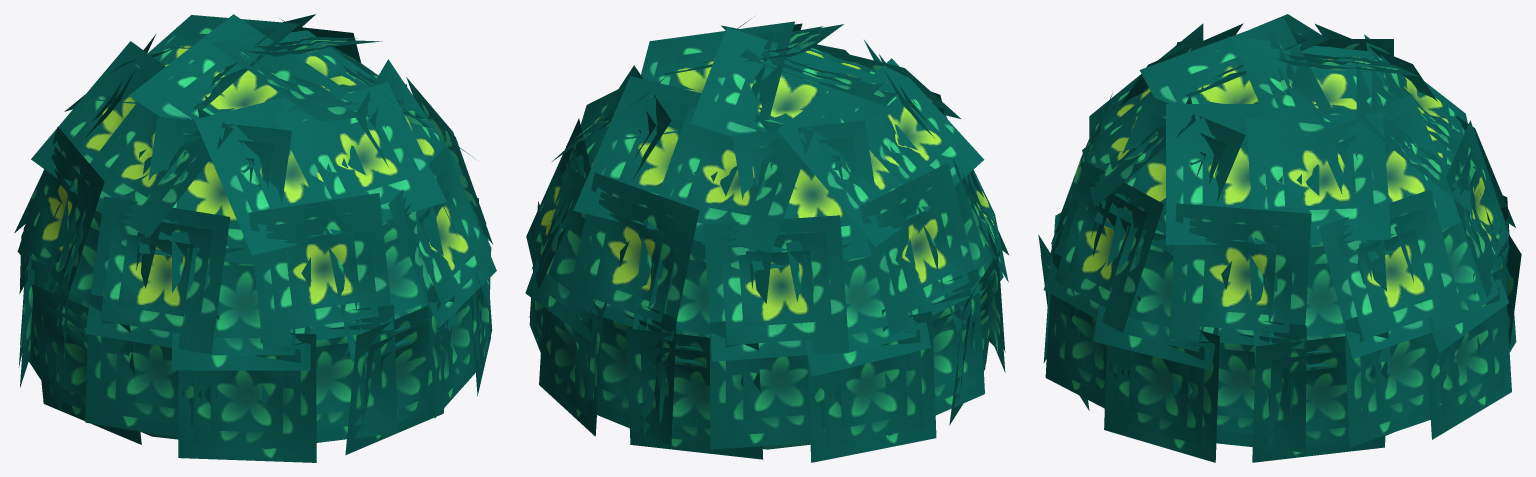
Rendered from 0176_T_ZhenYin_Shu07.glb.
The picture shows the model from 3 angles, left to right: view 1: azimuth 30°, elevation 25°; view 2: azimuth 150°, elevation 25°; view 3: azimuth 270°, elevation 25°; orthographic projection.
Size of the model in its own units: 2.2 by 1.65 by 2.2.
Materials: 1 (1 with a texture image).
